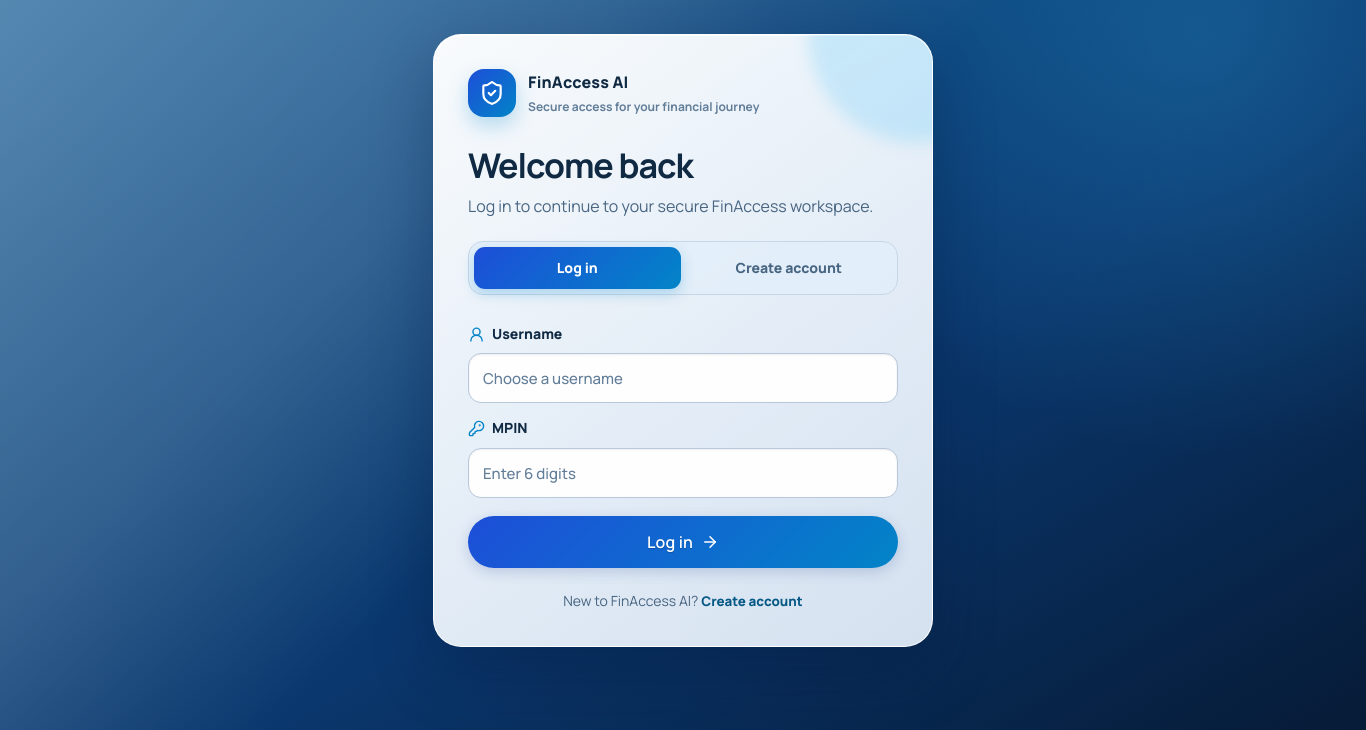
it: AuthPage › shows MPIN mismatch without submitting signup
Step 1. Click the button "Create account" → (752, 601), box [701,592,803,610]
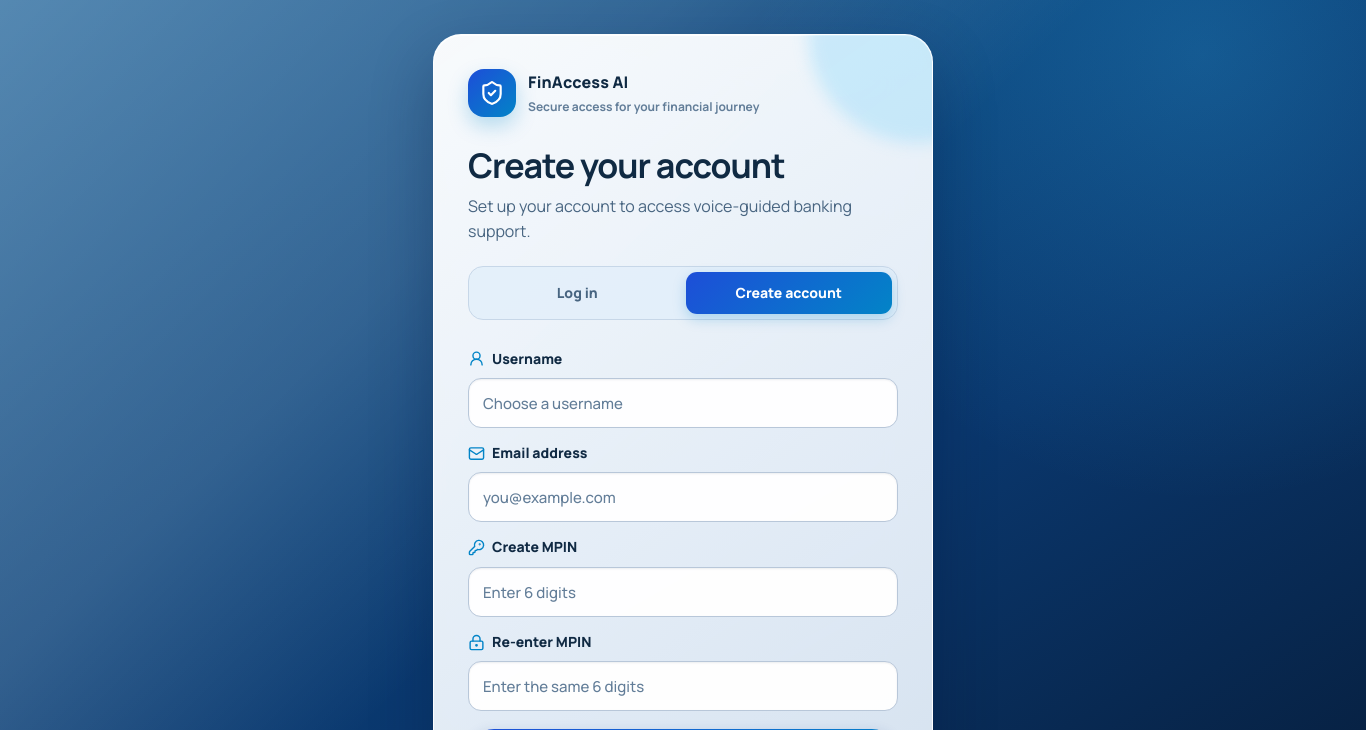
Step 2. Type "nisha" into the field labelled "Username" → (683, 403), box [468,378,898,428]
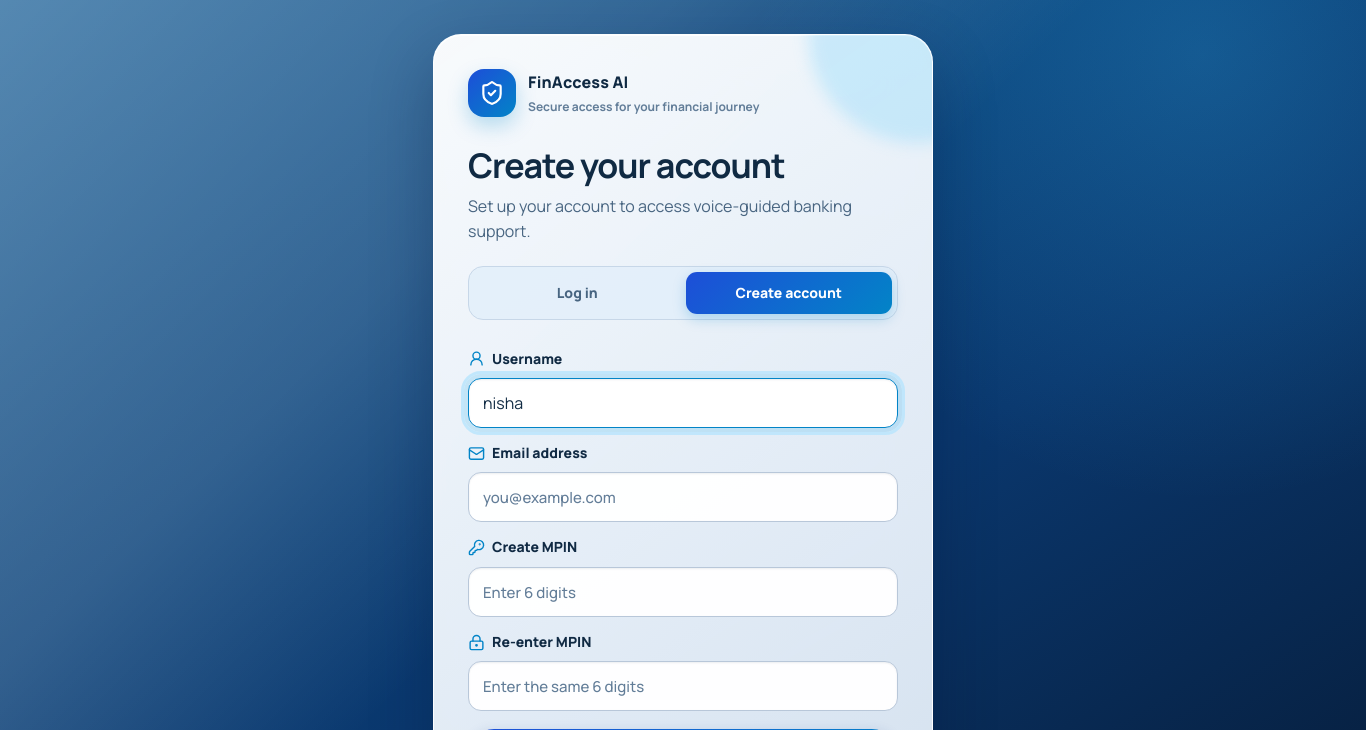
Step 3. Type "nisha@example.com" into the field labelled "Email address" → (683, 498), box [468,472,898,522]
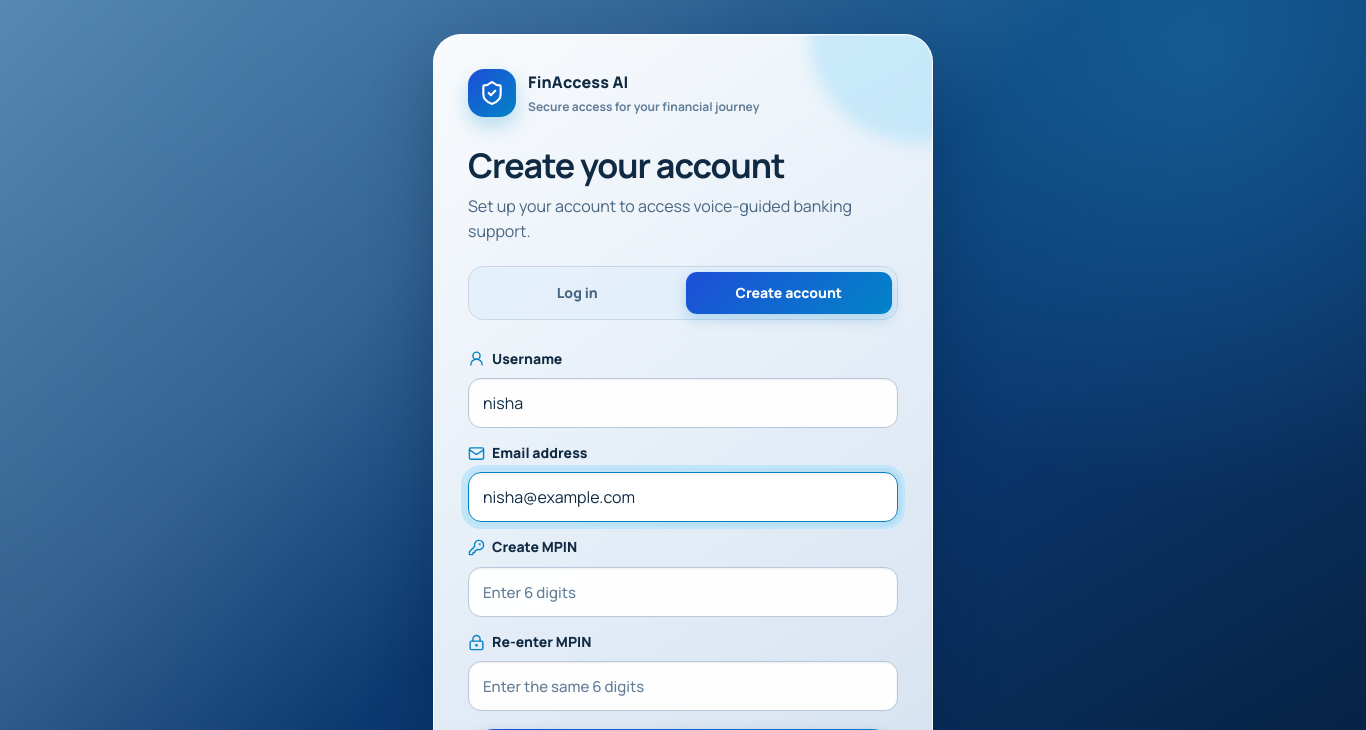
Step 4. Type "123456" into the password field labelled "Create MPIN" → (683, 592), box [468,567,898,617]
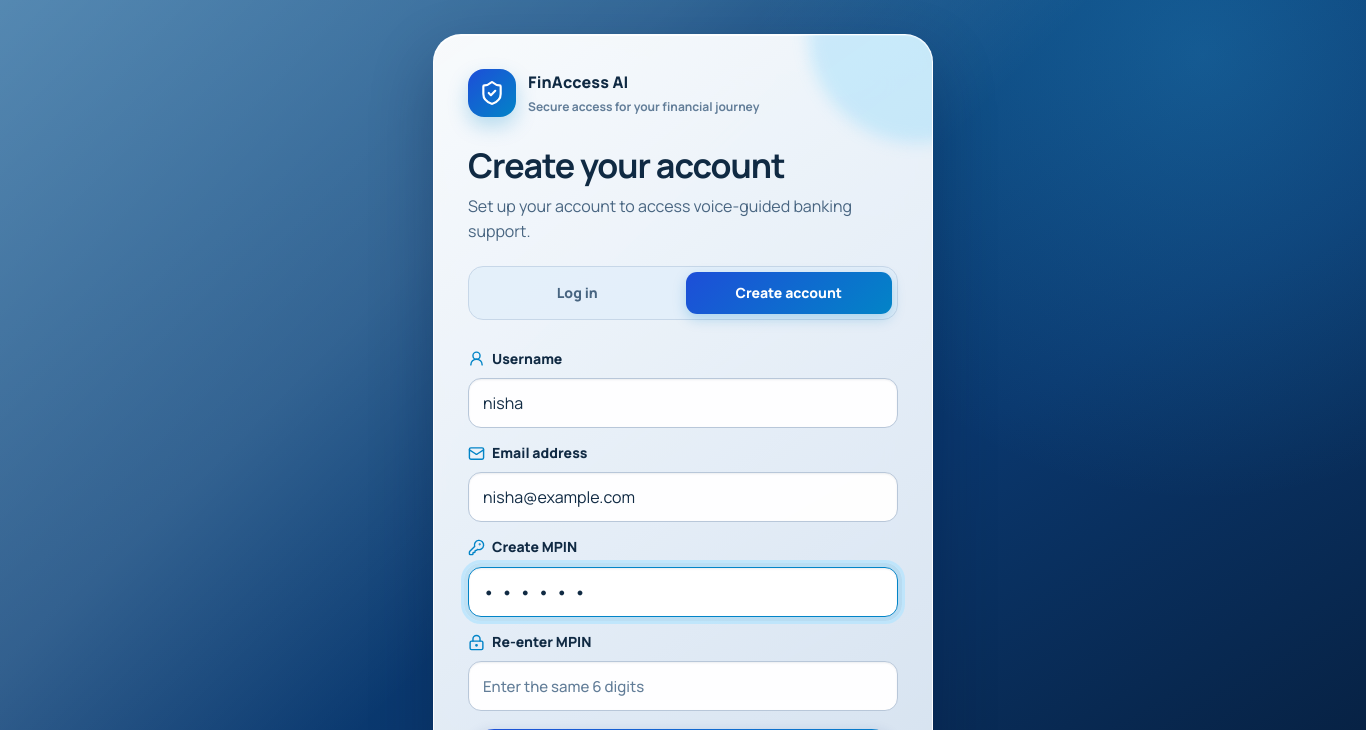
Step 5. Type "654321" into the password field labelled "Re-enter MPIN" → (683, 686), box [468,661,898,711]
(page scrolled)
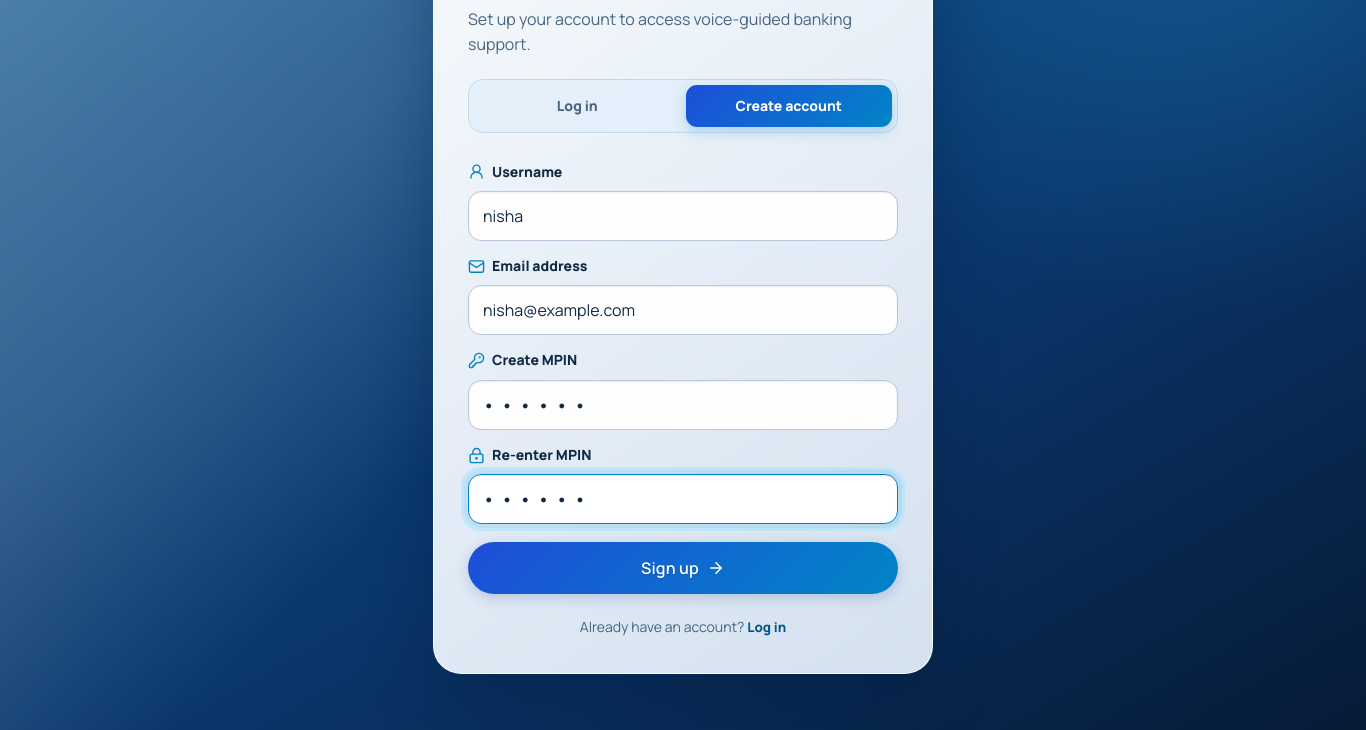
Step 6. Click the button "Sign up" → (683, 568), box [468,542,898,594]
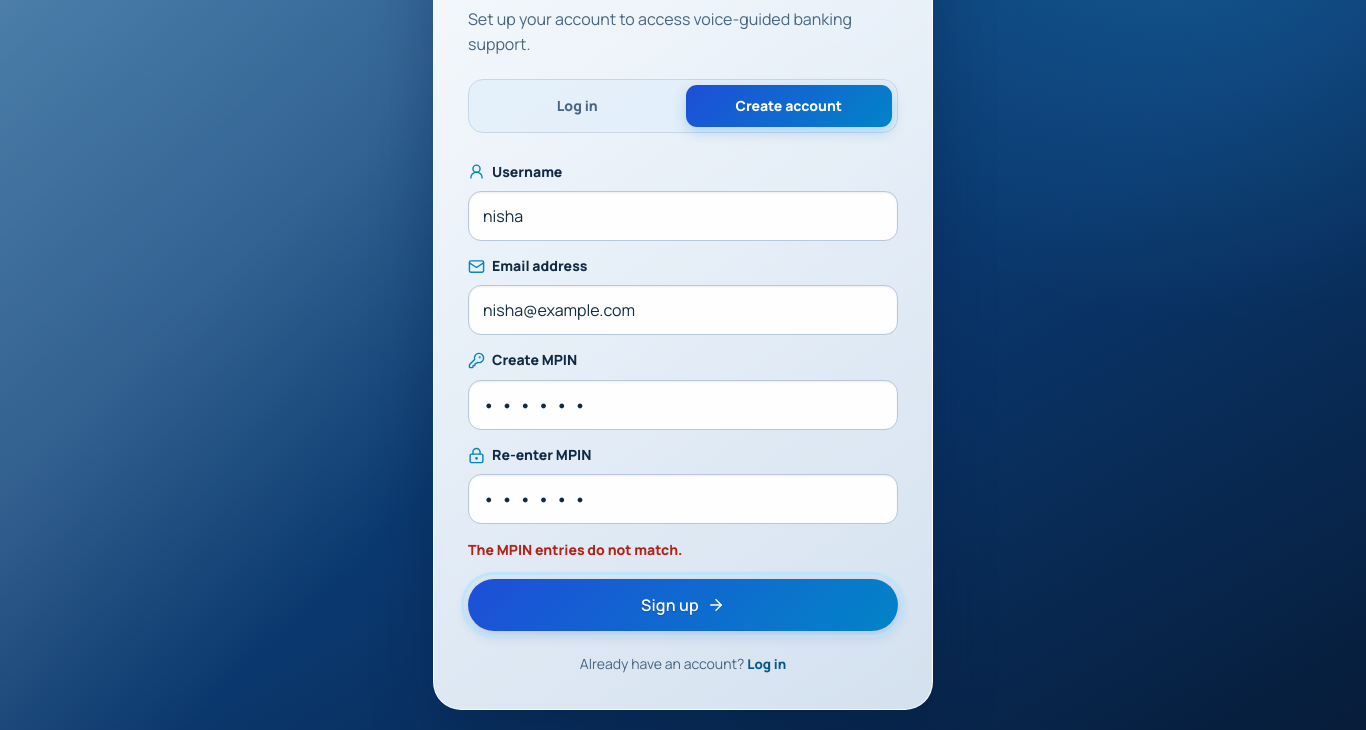
Expected: the message shows "do not match", [468,540,683,559]
